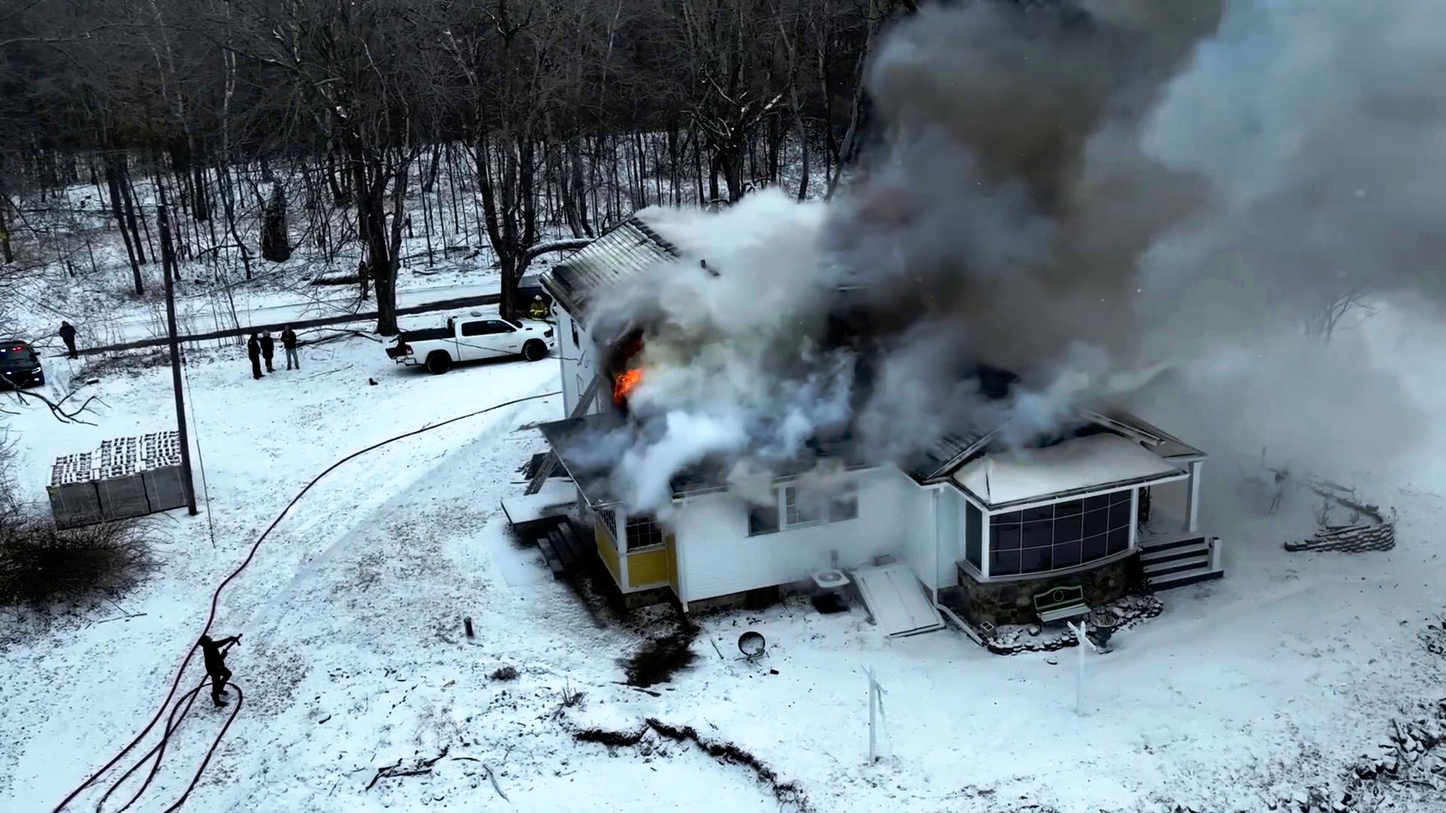smoke: (991, 34, 1437, 351), (723, 224, 942, 431)
